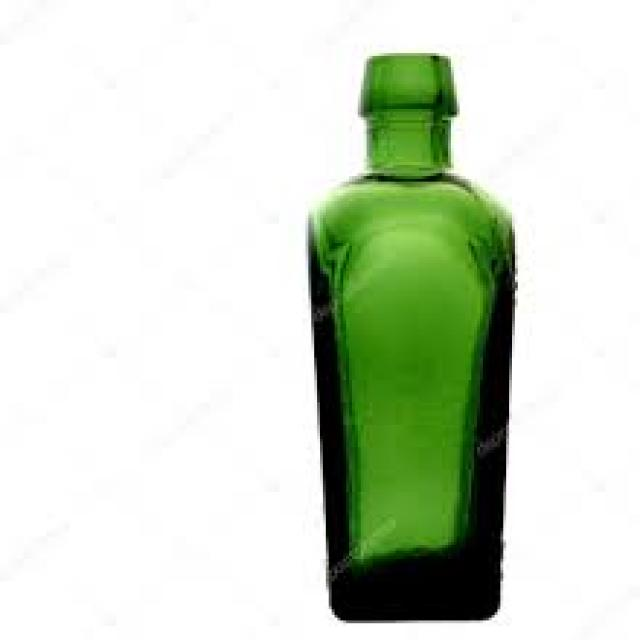Glass: (300, 47, 519, 625)
